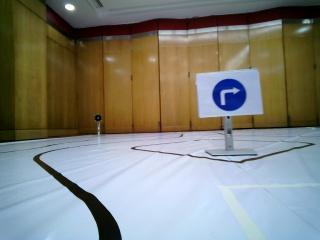right: (199, 74, 258, 114)
